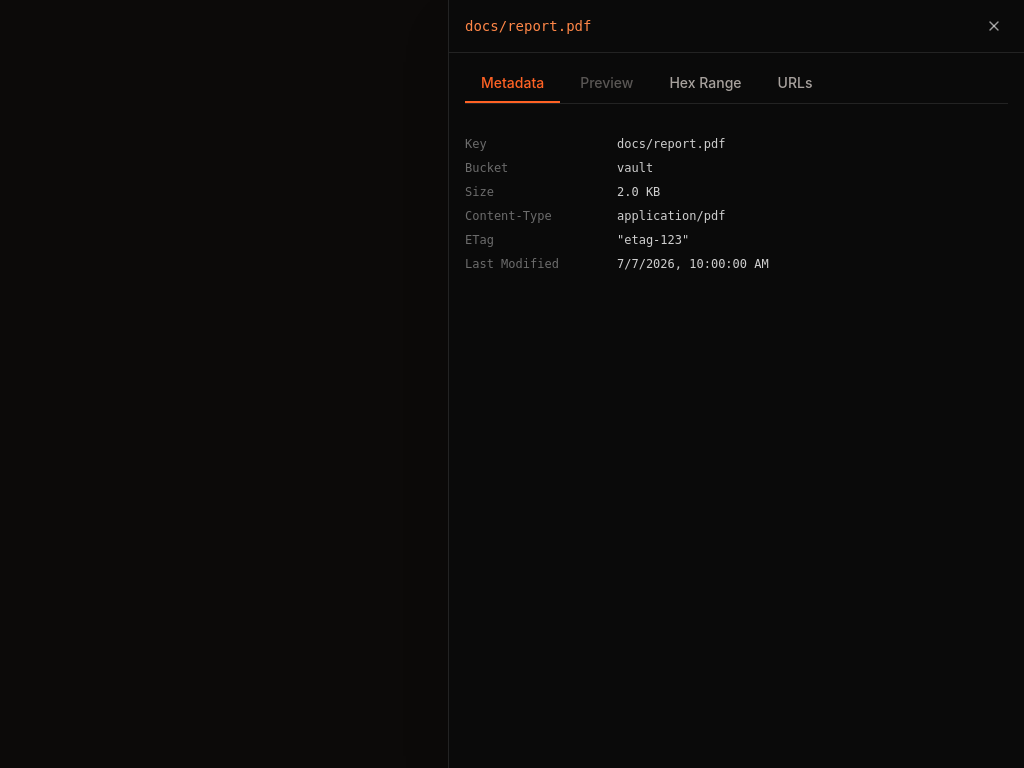
Test: KeyDetailDrawer — hex tab › renders the hex dump for the byte range
The width and height of the screenshot is (1024, 768).
Click the tab "Hex Range": (706, 84) [653,65,758,103]
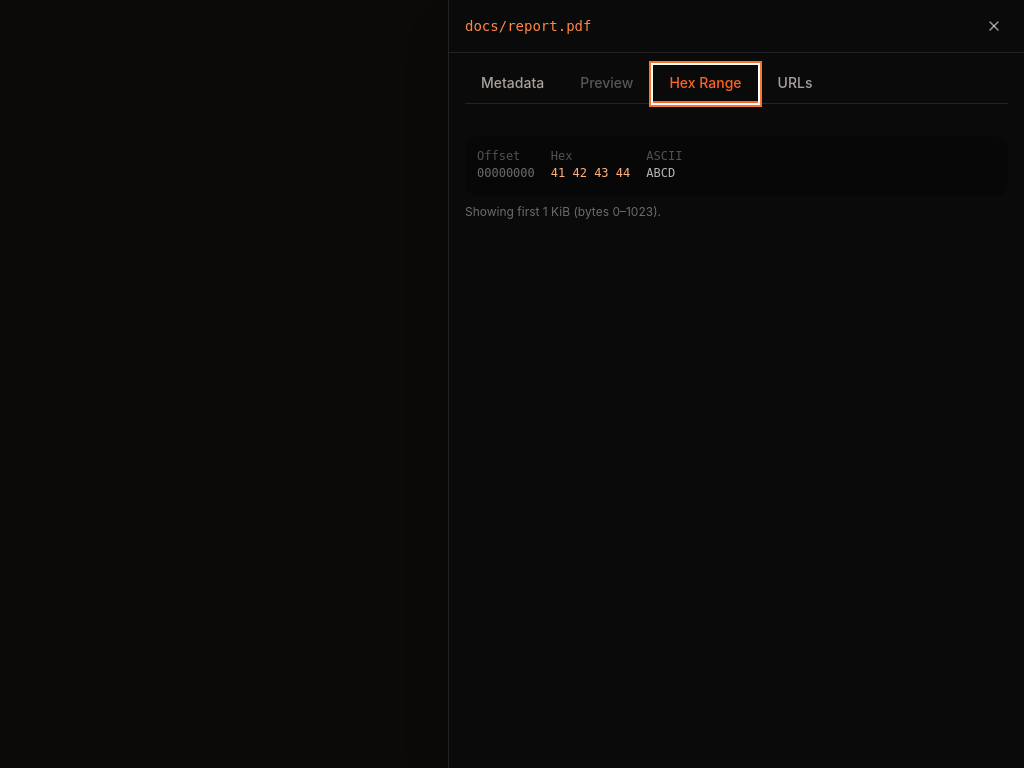
expect the table named "hex dump" is shown: met, box [477,148,682,184]
expect the text "Showing first 1 KiB (bytes 0–1023)." is shown: met, box [465,204,661,218]
